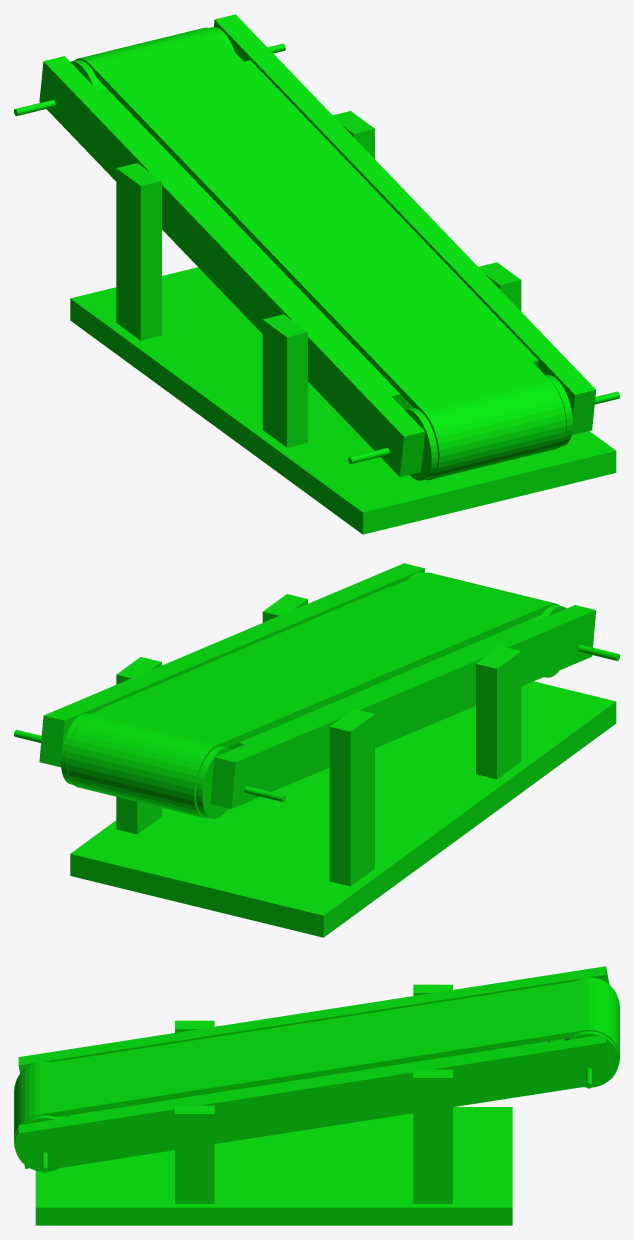
The model's file is modelo.glb.
The picture shows the model from 3 angles, top to bottom: view 1: azimuth 30°, elevation 25°; view 2: azimuth 150°, elevation 25°; view 3: azimuth 270°, elevation 25°; orthographic projection. The views are drawn at different scales.
Visible parts, largest first — view 1: EnsamblajeBandaTransportadora; view 2: EnsamblajeBandaTransportadora; view 3: EnsamblajeBandaTransportadora.
Boxes of the visible parts, x1,y1,x2,y2 form: EnsamblajeBandaTransportadora: (14,14,619,534); EnsamblajeBandaTransportadora: (14,563,619,937); EnsamblajeBandaTransportadora: (14,966,619,1225).
Bounding box in the file's own units: 216 × 161 × 519.
